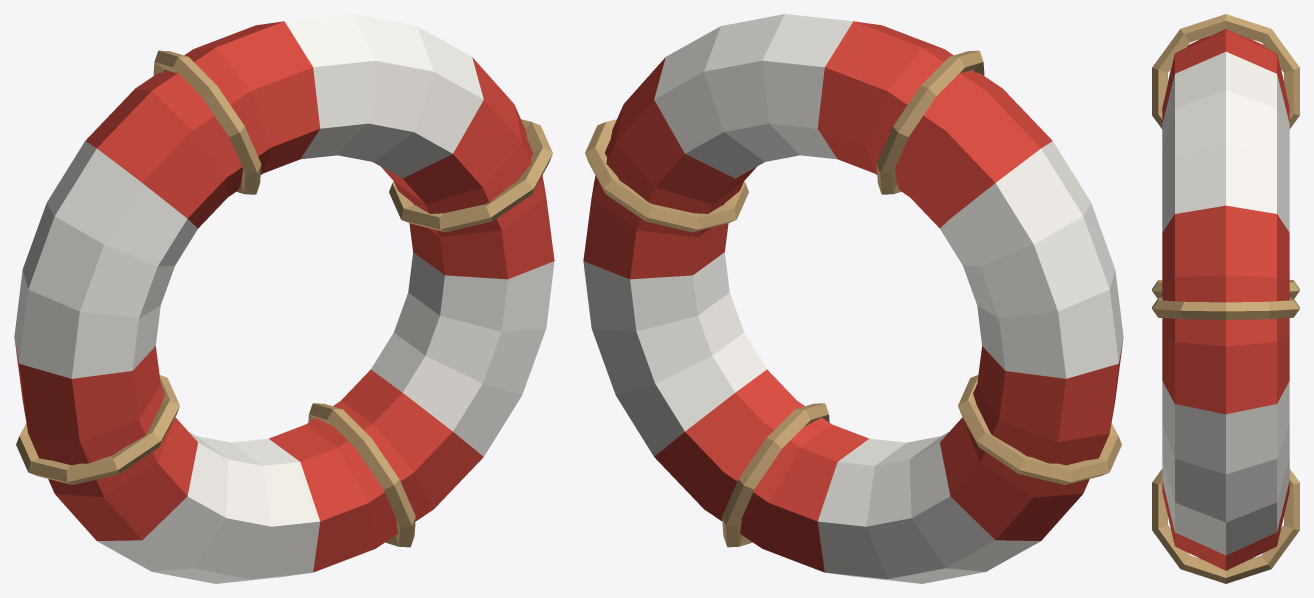
The model's file is life_ring.glb.
The picture shows the model from 3 angles, left to right: view 1: azimuth 30°, elevation 25°; view 2: azimuth 150°, elevation 25°; view 3: azimuth 270°, elevation 25°; orthographic projection. The views are drawn at different scales.
Parts seen in each view (by area): view 1: life_ring; view 2: life_ring; view 3: life_ring.
Boxes of the visible parts, bbox=[...] form: life_ring: bbox=[14, 14, 554, 583]; life_ring: bbox=[583, 14, 1123, 583]; life_ring: bbox=[1152, 14, 1299, 583].
Size of the model in its own units: 0.71 by 0.71 by 0.1921.
